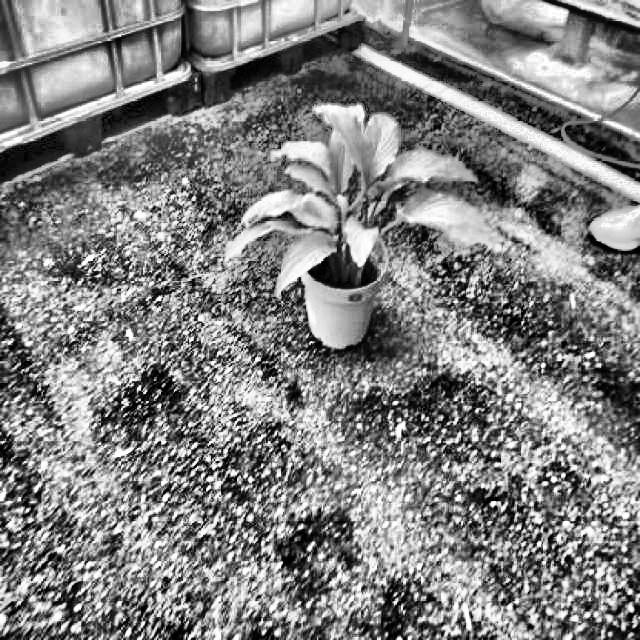plants: (229, 103, 500, 305)
